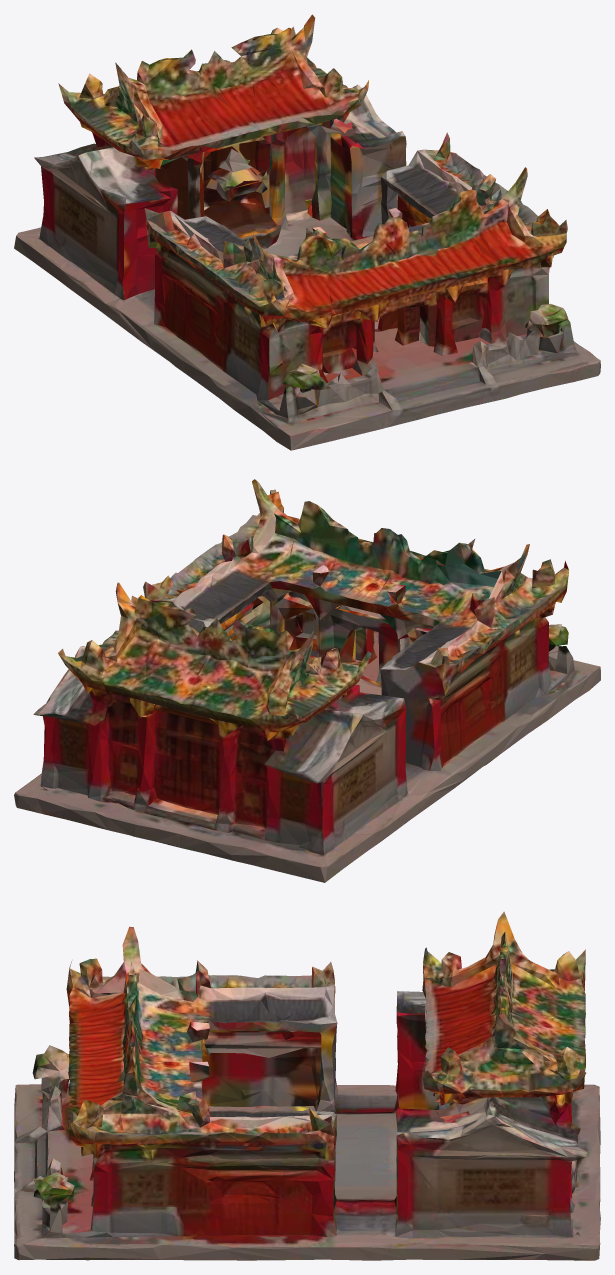
Rendered from longshan-temple.glb.
3 views of the same model, one above another, from view 1: azimuth 30°, elevation 25°; view 2: azimuth 150°, elevation 25°; view 3: azimuth 270°, elevation 25° (orthographic). The views are drawn at different scales.
Parts seen in each view (by area): view 1: logan-textured.obj; view 2: logan-textured.obj; view 3: logan-textured.obj.
Boxes of the visible parts, box(x1,y1,x2,y2) form: logan-textured.obj: box(14, 14, 600, 450); logan-textured.obj: box(14, 479, 600, 882); logan-textured.obj: box(14, 911, 600, 1260).
Bounding box in the file's own units: 0.6529 × 0.4098 × 1.
1 material, 1 textured.
